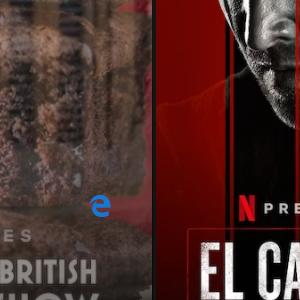edge: (89, 194, 111, 218)
